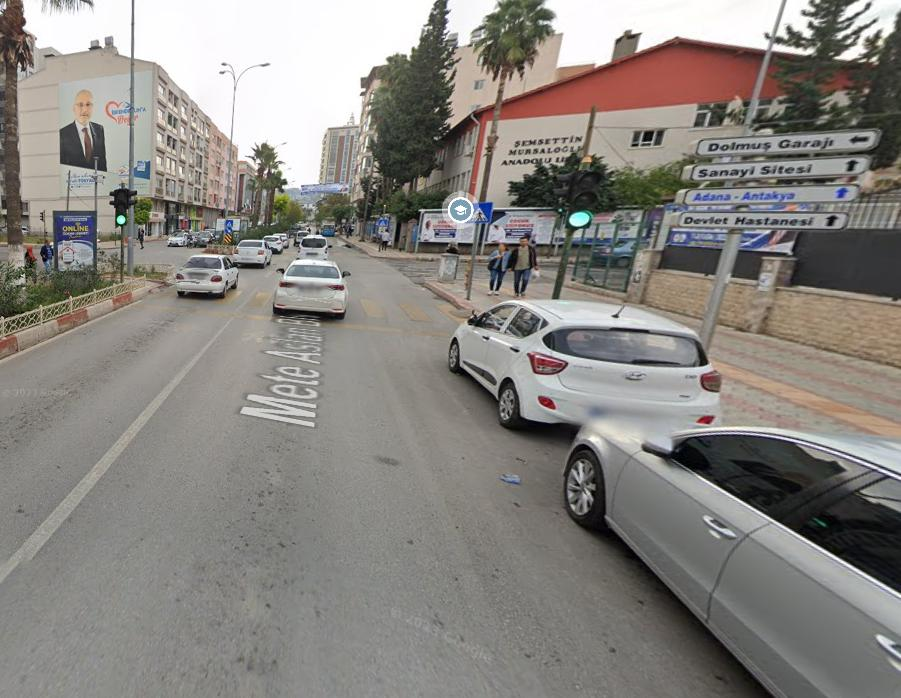greenlight: (571, 171, 597, 238), (112, 186, 132, 230)
